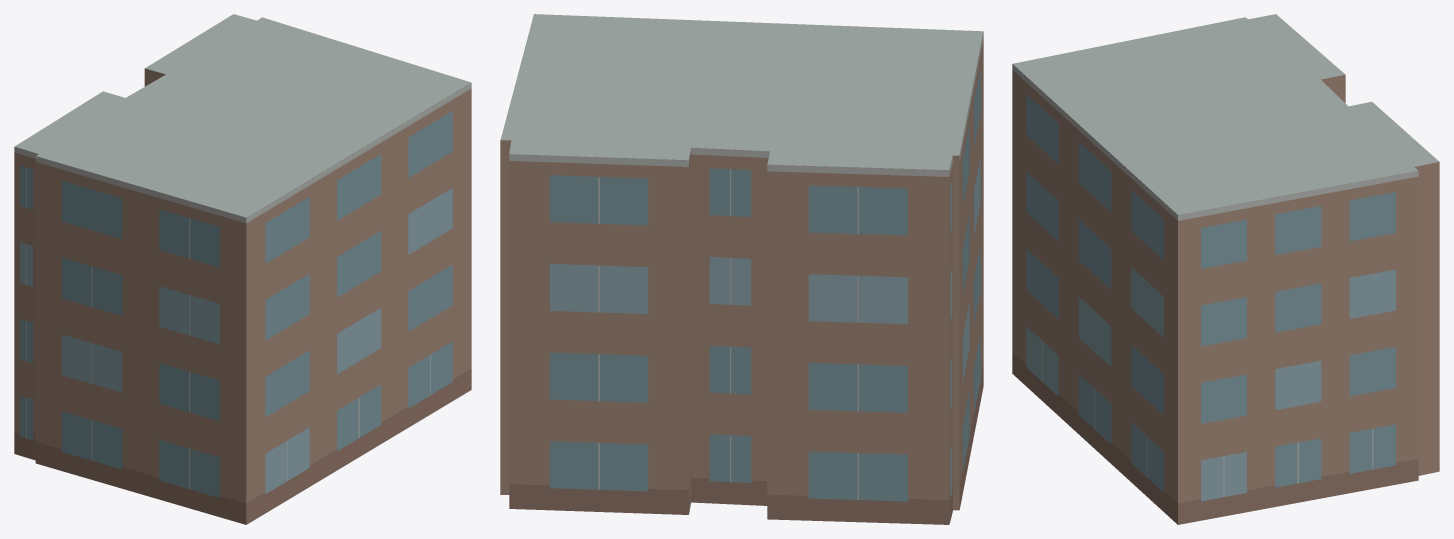
The model's file is survey-upis-32731846.glb.
3 renders of one model, left to right at view 1: azimuth 30°, elevation 25°; view 2: azimuth 150°, elevation 25°; view 3: azimuth 270°, elevation 25°, orthographic. The views are drawn at different scales.
Parts seen in each view (by area): view 1: survey-upis-32731846.tmp; view 2: survey-upis-32731846.tmp; view 3: survey-upis-32731846.tmp.
Part boxes in pixels (left/top/right/bottom): survey-upis-32731846.tmp: left=14, top=14, right=471, bottom=524; survey-upis-32731846.tmp: left=500, top=14, right=983, bottom=524; survey-upis-32731846.tmp: left=1012, top=14, right=1439, bottom=524.
Size of the model in its own units: 17.82 by 12.8 by 16.
